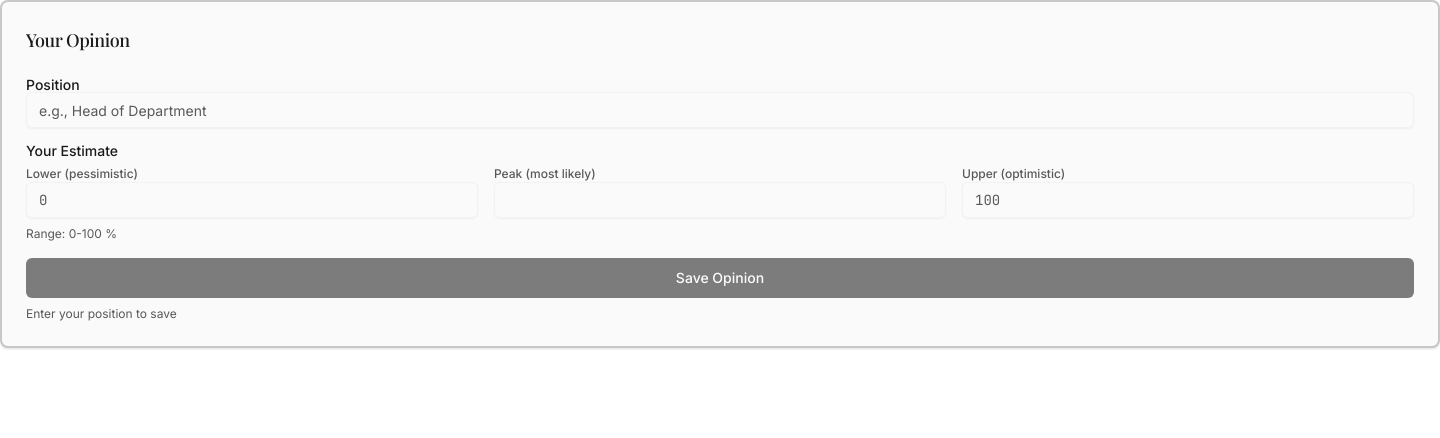
Test: OpinionForm - Submission › clears the stale lower<=peak<=upper error once a sibling field is corrected
Step 1. Type "Director" into the field labelled "Position" → [720, 110], box [26,92,1414,128]
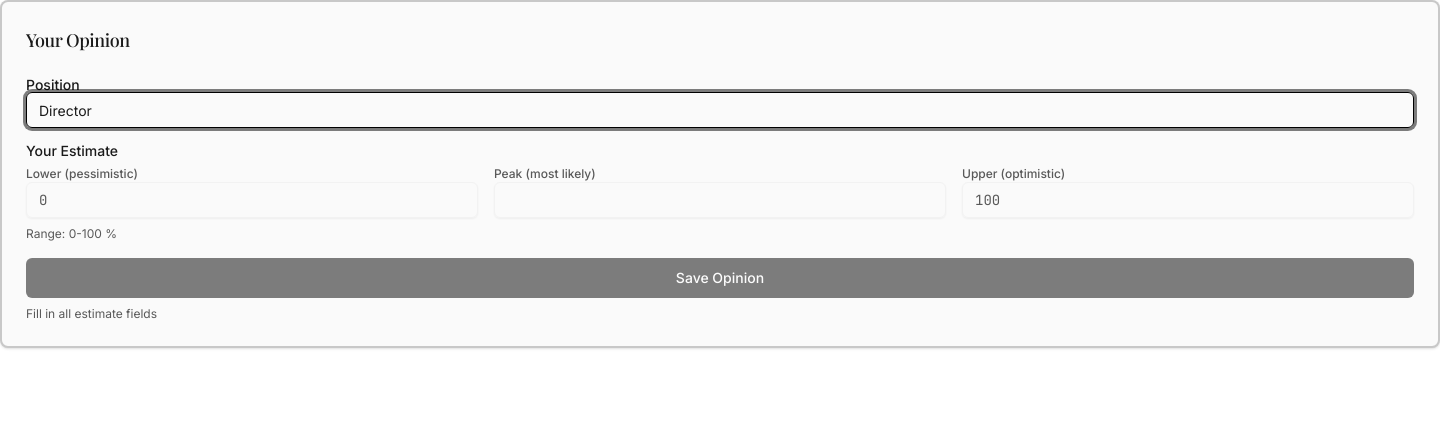
Step 2. Type "20" into the number field labelled "Lower (pessimistic)" → [252, 200], box [26,182,478,218]
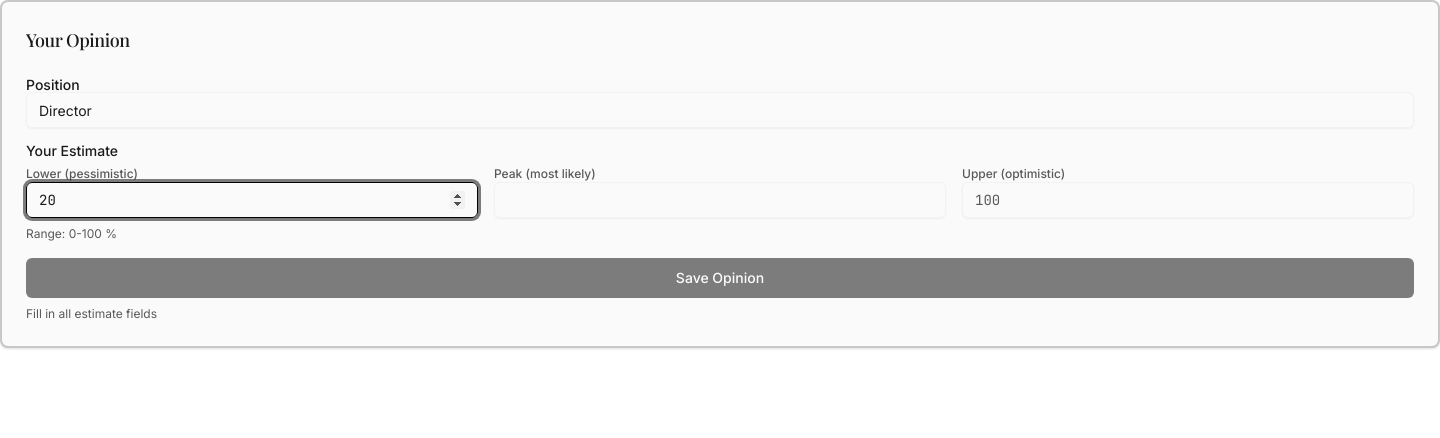
Step 3. Type "50" into the number field labelled "Peak (most likely)" → [720, 200], box [494,182,946,218]
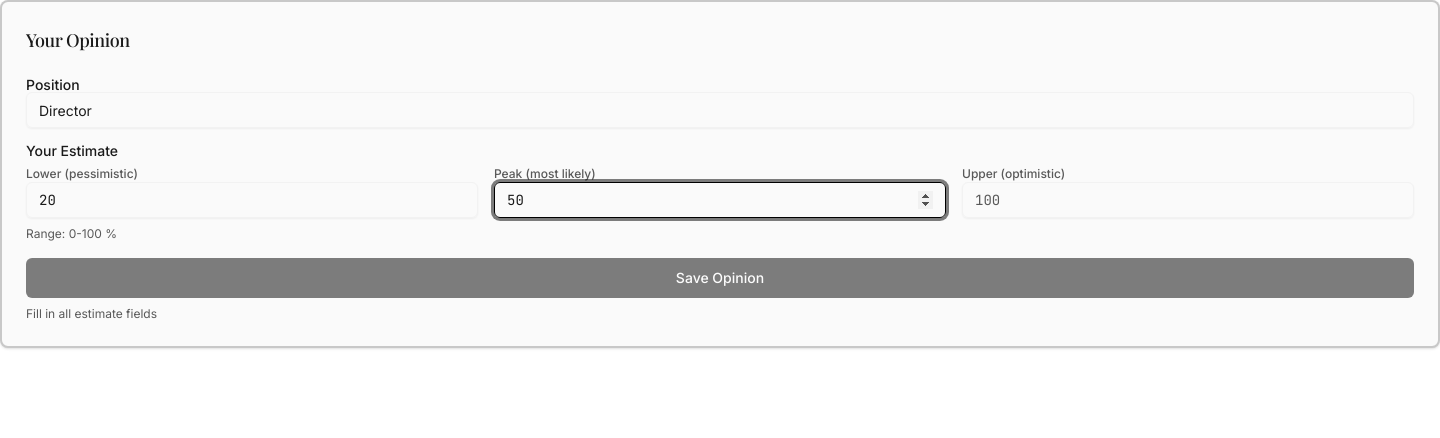
Step 4. Type "40" into the number field labelled "Upper (optimistic)" → [1188, 200], box [962,182,1414,218]
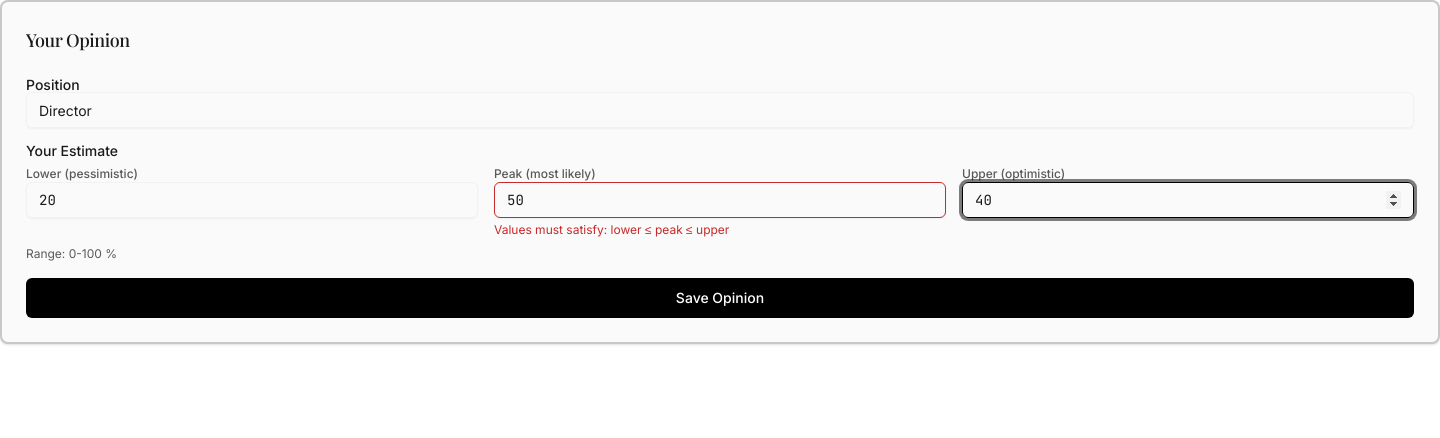
Step 5. Click the button "Save Opinion" → [720, 298], box [26,278,1414,318]
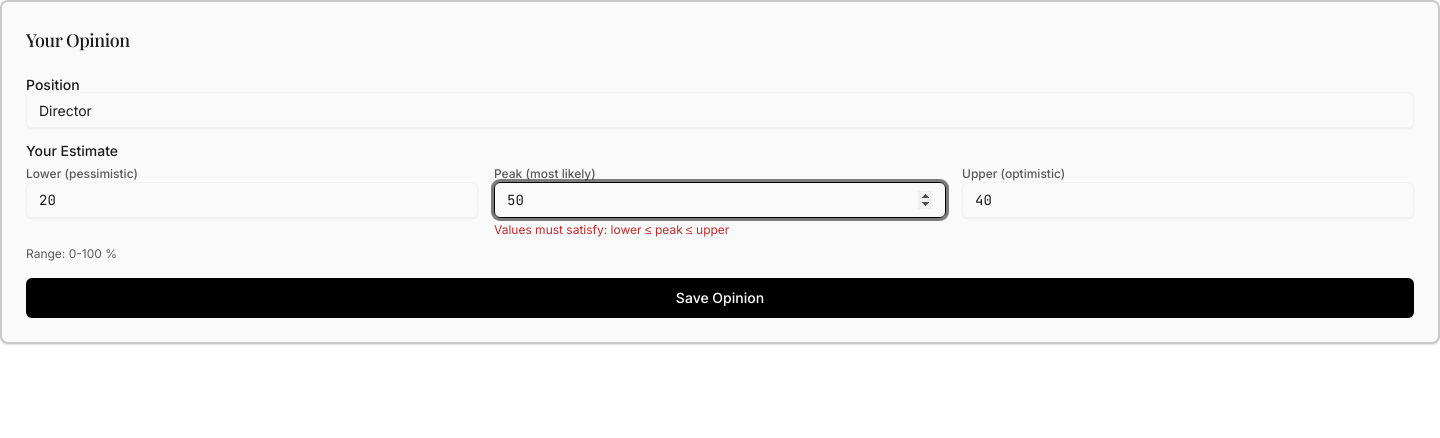
Result: the text "Values must satisfy: lower ≤ peak ≤ upper" is shown at [494,222,729,237]
Step 6. Replace the text in the number field labelled "Upper (optimistic)" with "80" → [1188, 200], box [962,182,1414,218]
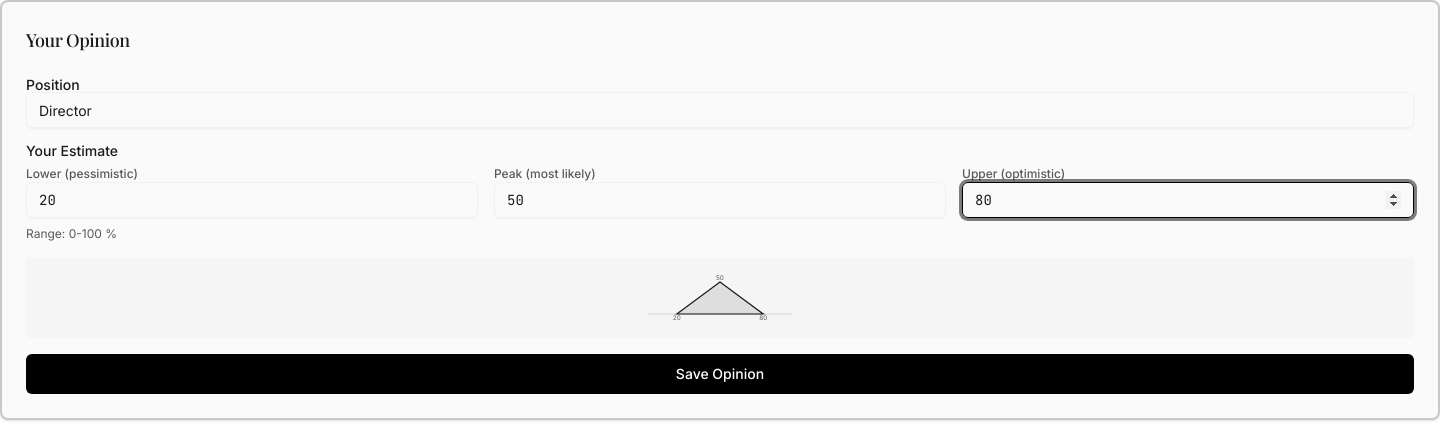
Result: the text "Values must satisfy: lower ≤ peak ≤ upper" is gone
